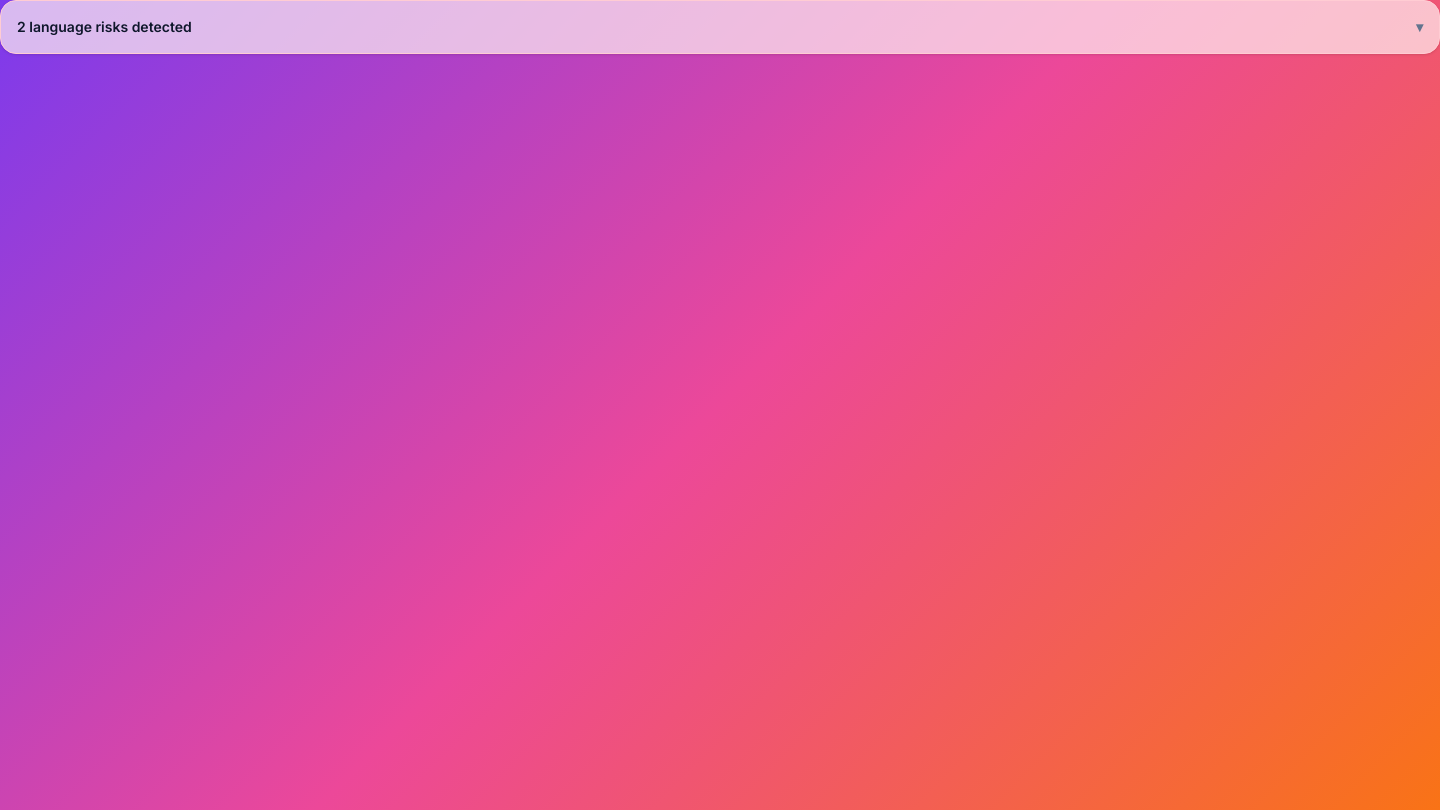
it: TriggerList › keeps high-risk panels collapsed by default and includes professional-risk labels
Check: the text "Medical or diagnostic speculation" is not shown
Click the button "2 language risks detected ▾": [104, 26] box [17,17,1423,37]
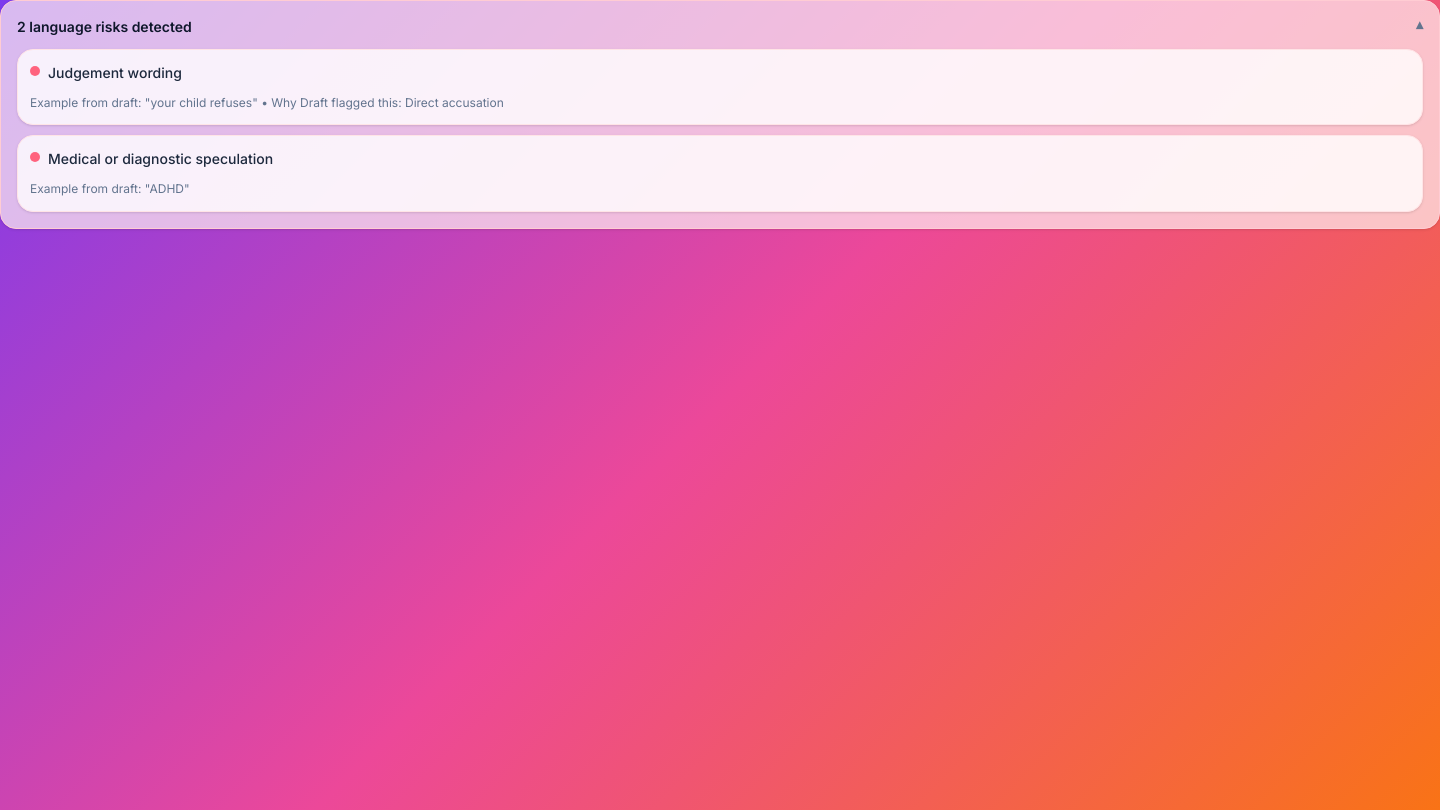
Check: the text "Judgement wording" is shown, box [48,62,182,85]
Check: the text "Medical or diagnostic speculation" is shown, box [48,148,273,171]
Check: the text "Example from draft: \"ADHD\"" is shown, box [30,181,190,196]
